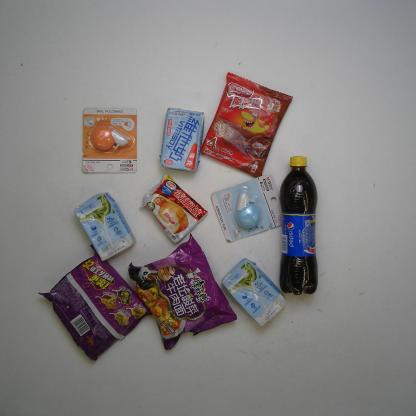Dessert: (202, 70, 293, 178), (138, 173, 208, 245)
Drink: (277, 155, 319, 295)
Instant Noodles: (38, 242, 150, 362), (127, 232, 239, 350)
Milk: (74, 190, 136, 262), (221, 258, 284, 327), (160, 107, 203, 173)
Stationery: (210, 172, 282, 242), (81, 107, 139, 174)
